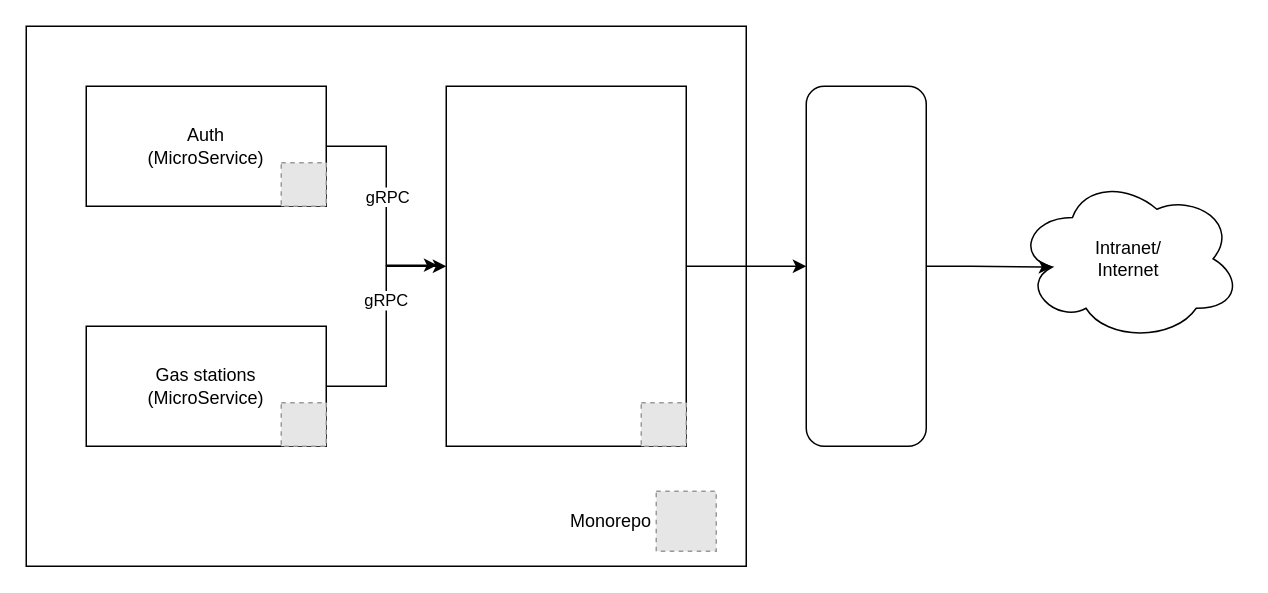
This 1268x593 diagram has some shape labels left out. Grey dashed boxes stand in for pictures. The shapes that lost their labels are listed below. From the top down, each one's box as (x1, y1, x2, y2) in pixels, then its label:
(445, 85, 686, 446): API Gateway (REST API)
(805, 85, 926, 446): FLEX Gateway
